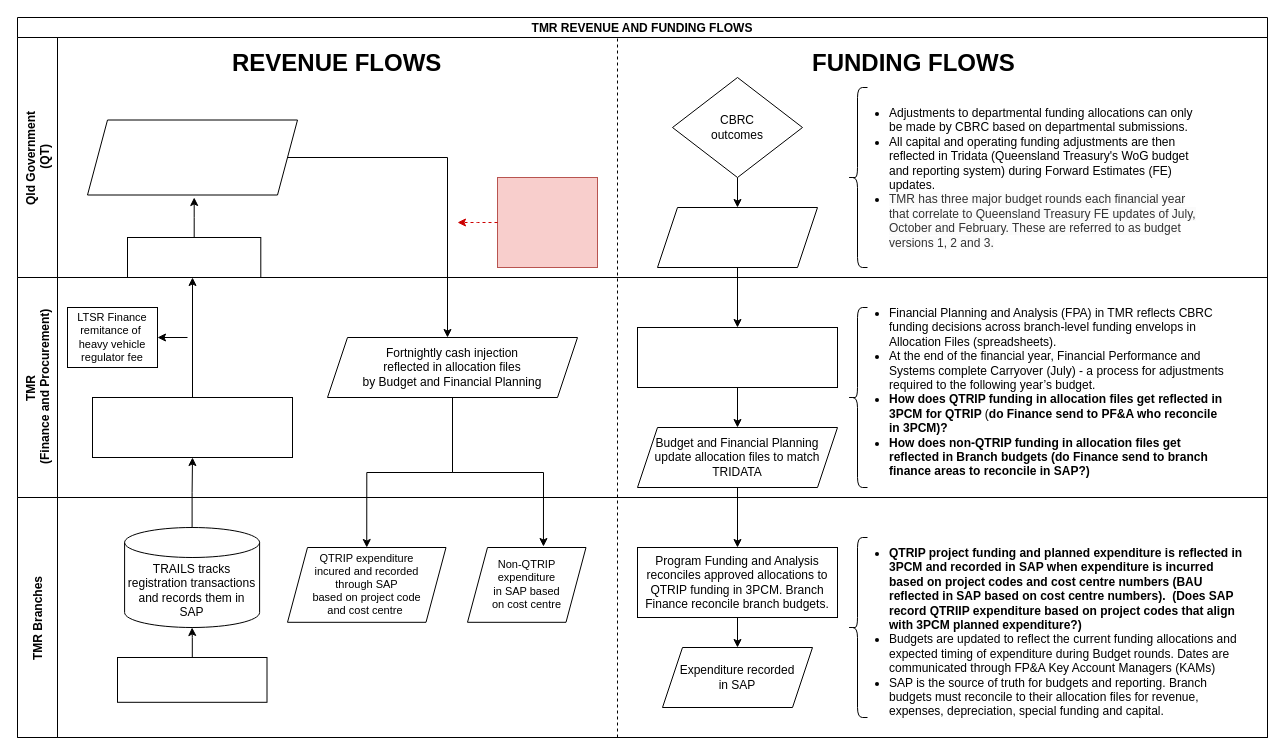
The diagram is 1285 pixels wide and 756 high, and some of its shapes have lost their labels. The shapes that lost their labels are listed below. From the top down, each one's centre as x and y in pixels, then its label:
At (192,157): "Queensland Treasury consolidated fund".
At (547,222): "TMR retains 81.44% of registration revenue, reflected in TMR's funding envelope.".
At (737,237): "Tridata forward estimate update".
At (193,257): "Weekly remittance to Queensland Treasury".
At (737,357): "TMR funding envelop reconciliation with CBRC funding outcomes".
At (192,427): "Cash and Banking team reconcile SAP with general ledger".
At (191,679): "Customer Services Branch interfaces with public to collect revenuw".
